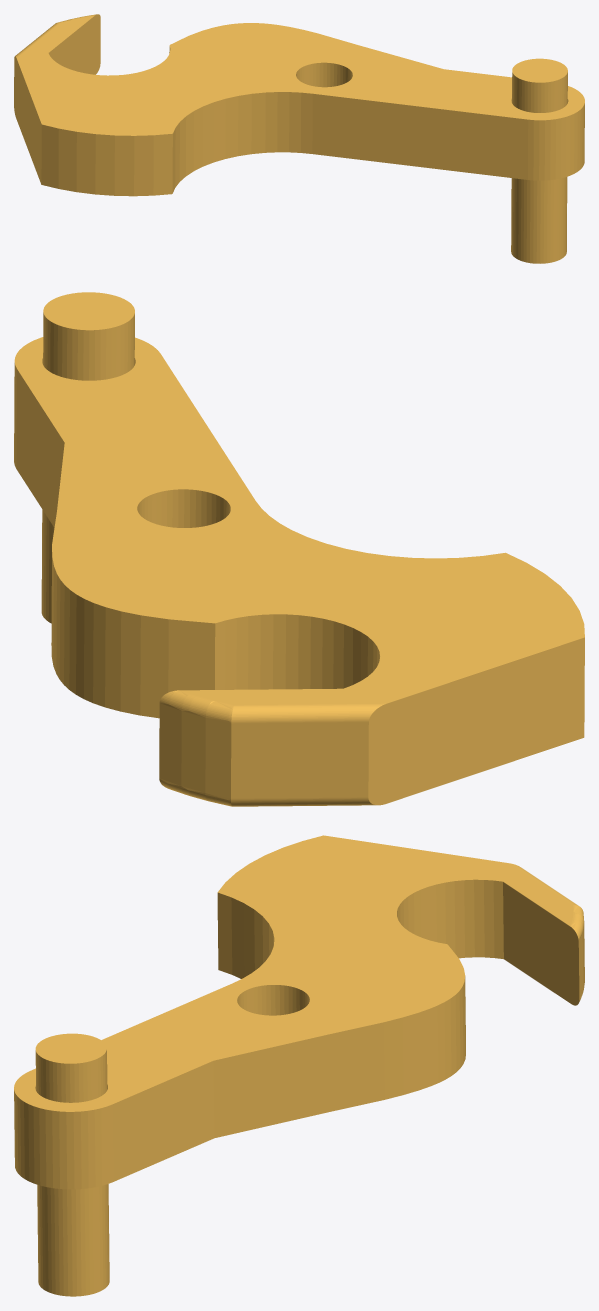
Rendered from claw_jaw_b.glb.
The picture shows the model from 3 angles, top to bottom: view 1: azimuth 30°, elevation 25°; view 2: azimuth 150°, elevation 25°; view 3: azimuth 270°, elevation 25°; orthographic projection. The views are drawn at different scales.
Size of the model in its own units: 0.0151 by 0.00602 by 0.0133.
